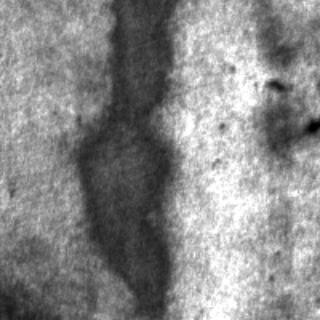patches: (76, 0, 174, 318), (255, 21, 317, 155)
